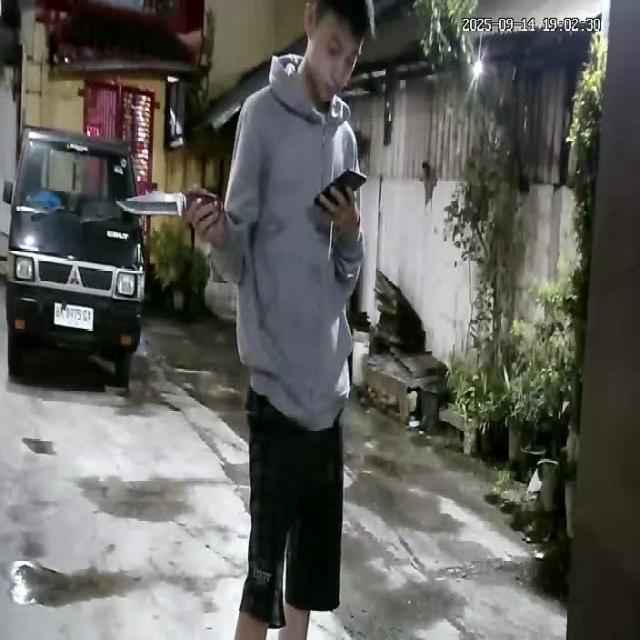senjata_tajam: (115, 190, 187, 218)
